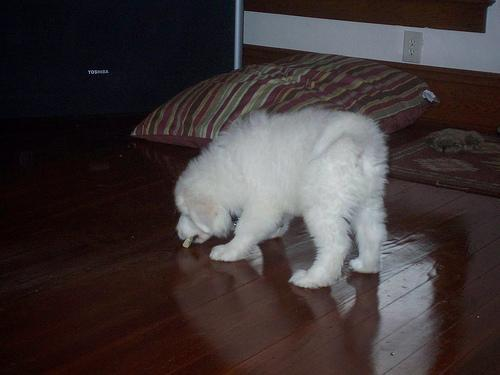Great_Pyrenees: (175, 105, 394, 290)
